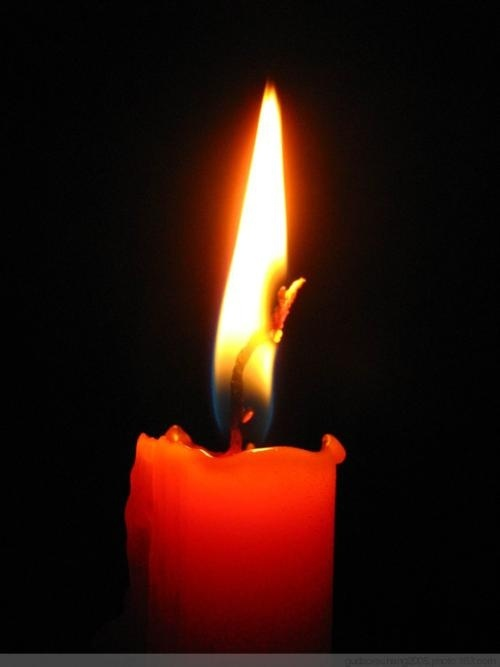fire: (211, 65, 302, 444)
